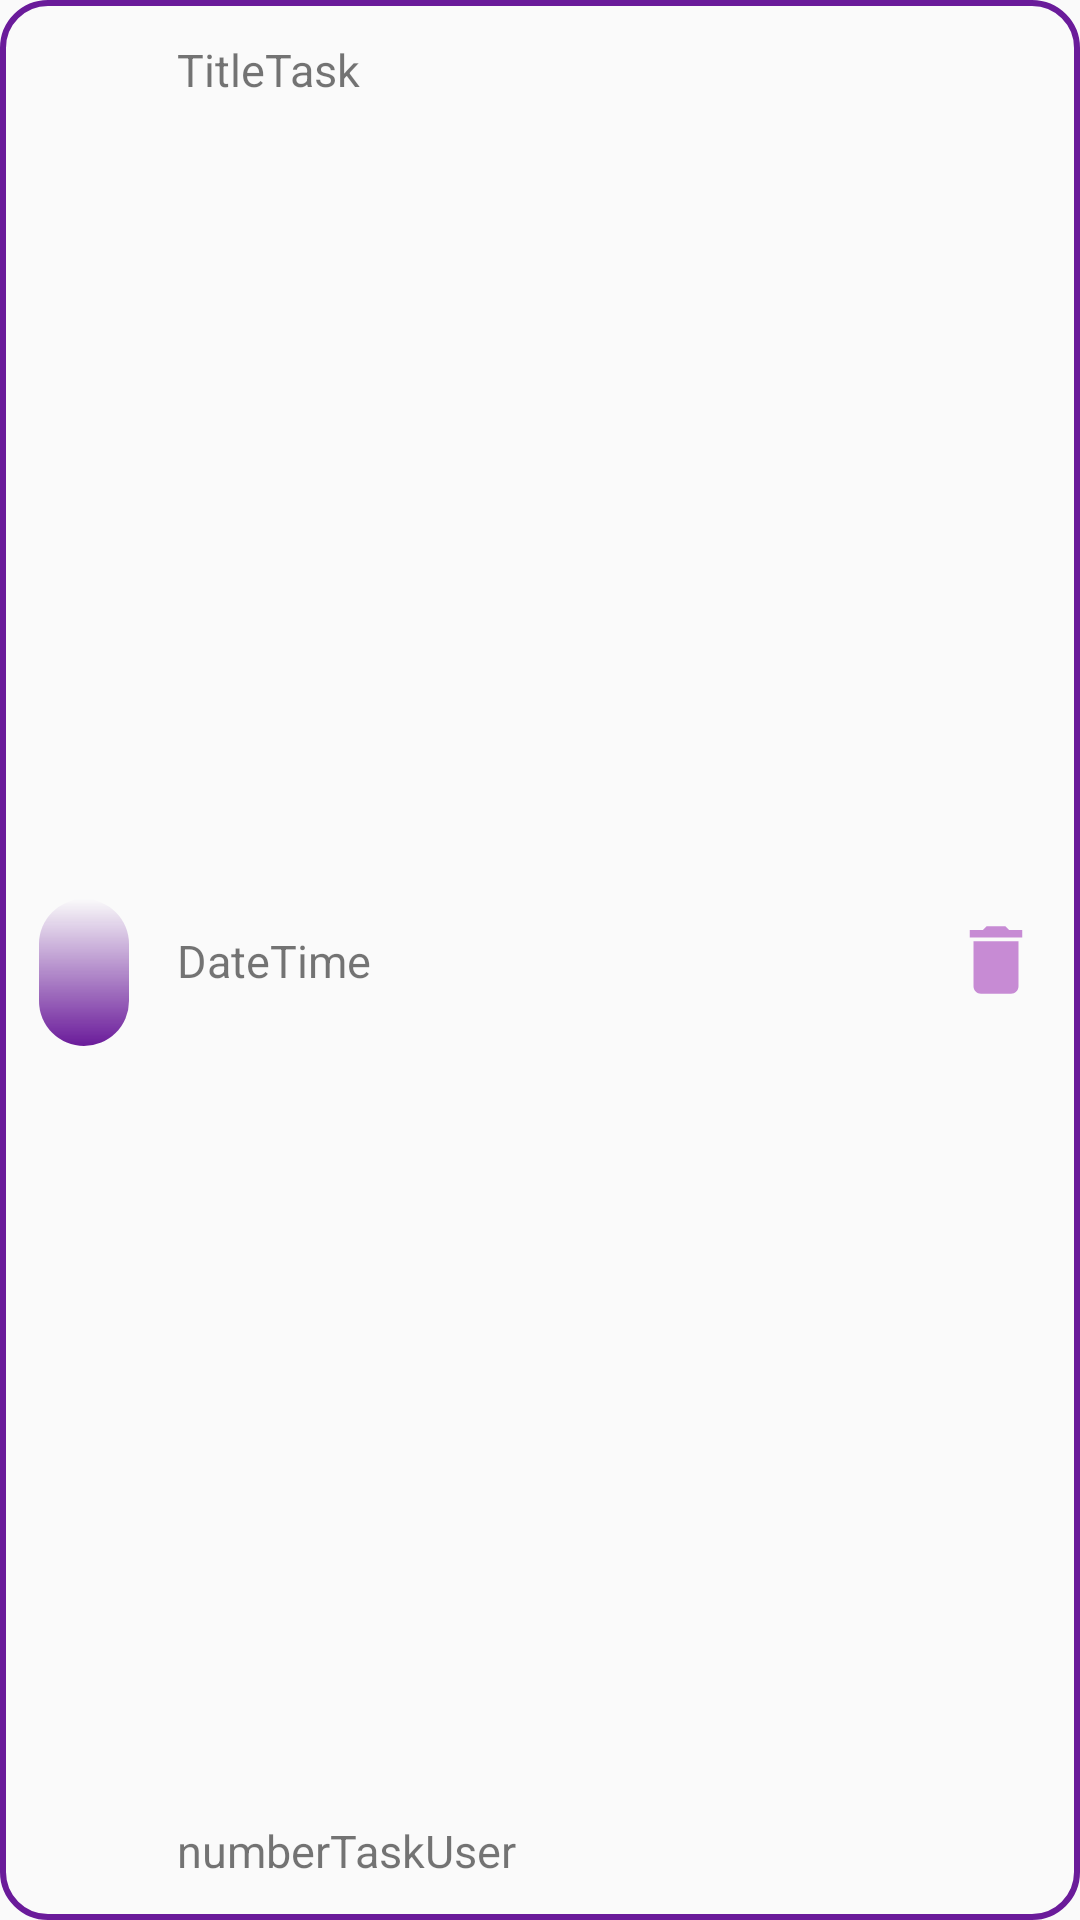

Where icons sit on this 1080*1920 app screen, as (x1, y1, x2, y2):
trash user: (969, 926, 1023, 994)
